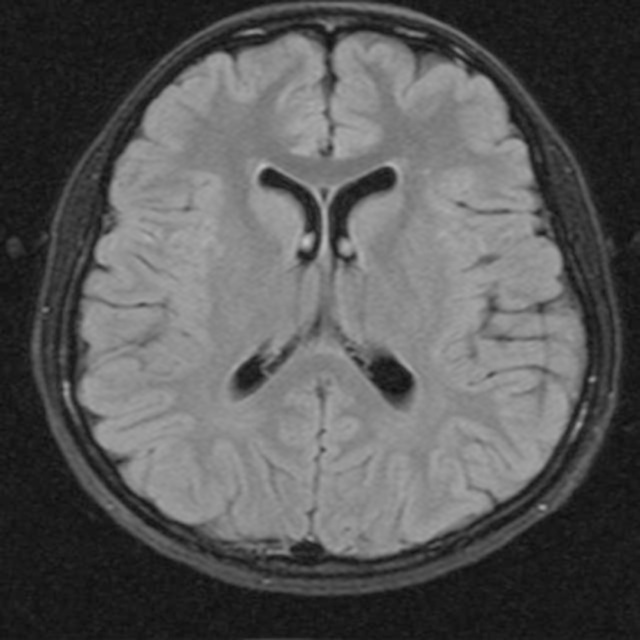glioma tumor: (155, 55, 490, 530)
